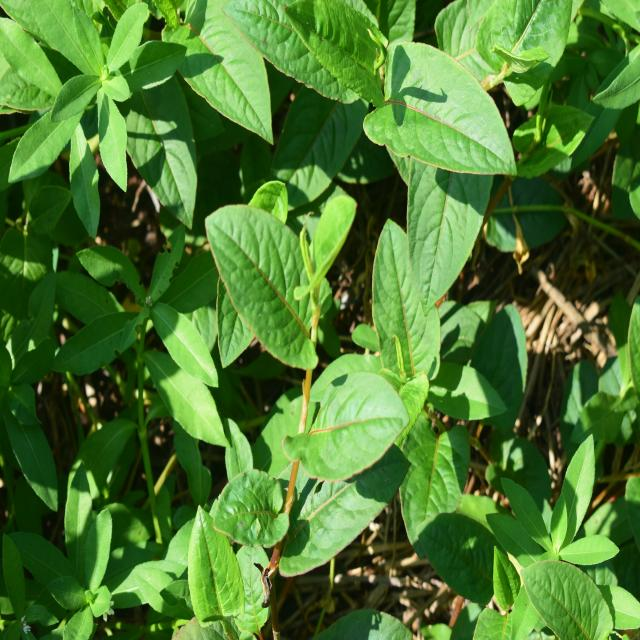Chinese_knotweed: (200, 177, 498, 555)
